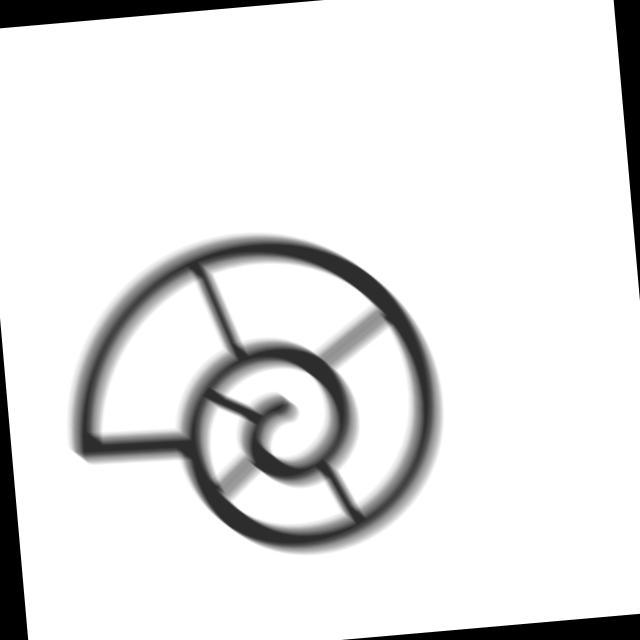fossil: (48, 210, 460, 580)
